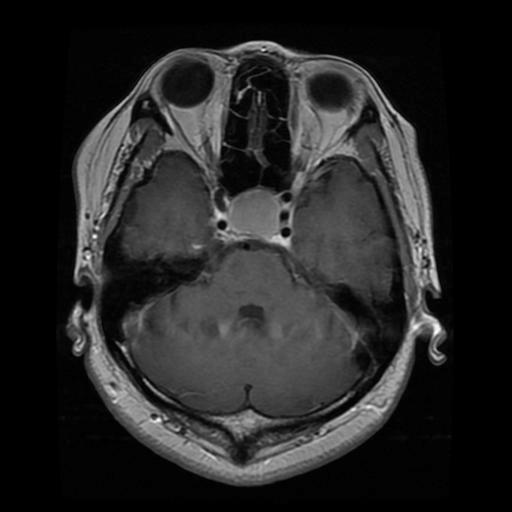Tumour-Pituitary: (216, 187, 296, 248)
